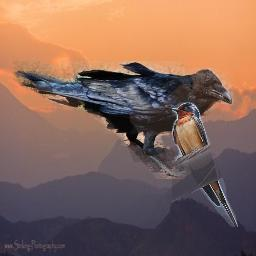Crow: (13, 61, 234, 179)
Swallow: (172, 102, 238, 227)
